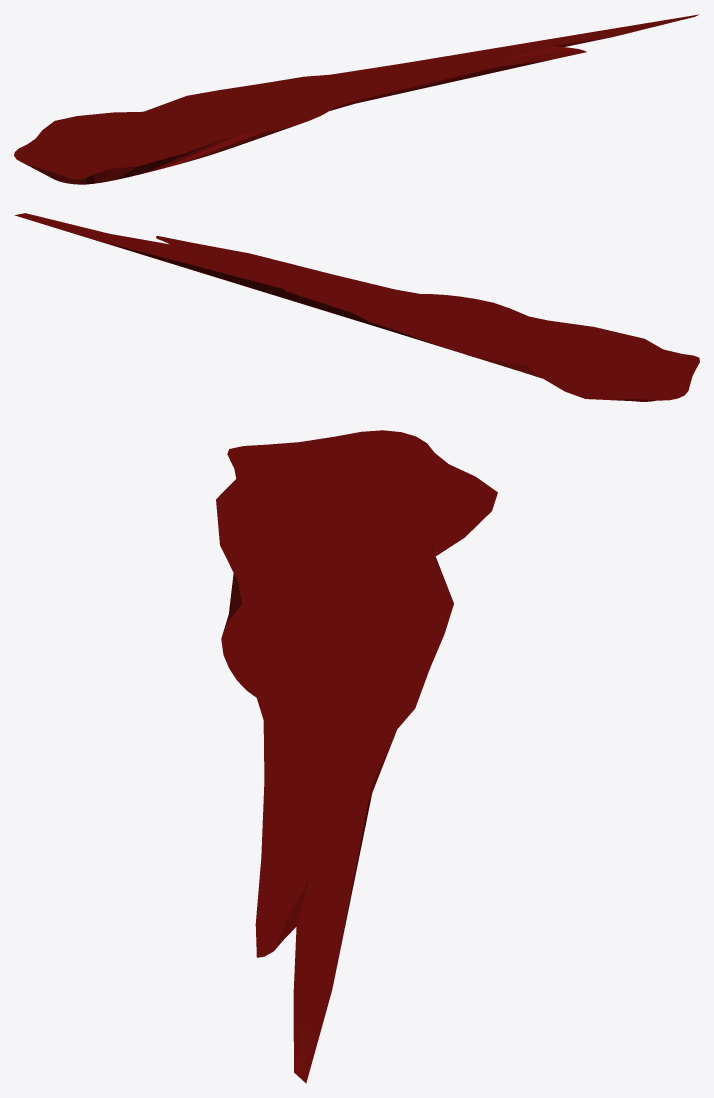
The model's file is BloodFBX.fbx.
3 views of the same model, one above another, from view 1: azimuth 30°, elevation 25°; view 2: azimuth 150°, elevation 25°; view 3: azimuth 270°, elevation 25° (orthographic). The views are drawn at different scales.
Visible parts, largest first — view 1: Blood; view 2: Blood; view 3: Blood.
Part boxes in pixels (x1,y1,x2,y2): Blood: (14,14,698,184); Blood: (14,213,699,401); Blood: (216,430,497,1083).
Size of the model in its own units: 1621 by 38.92 by 298.
